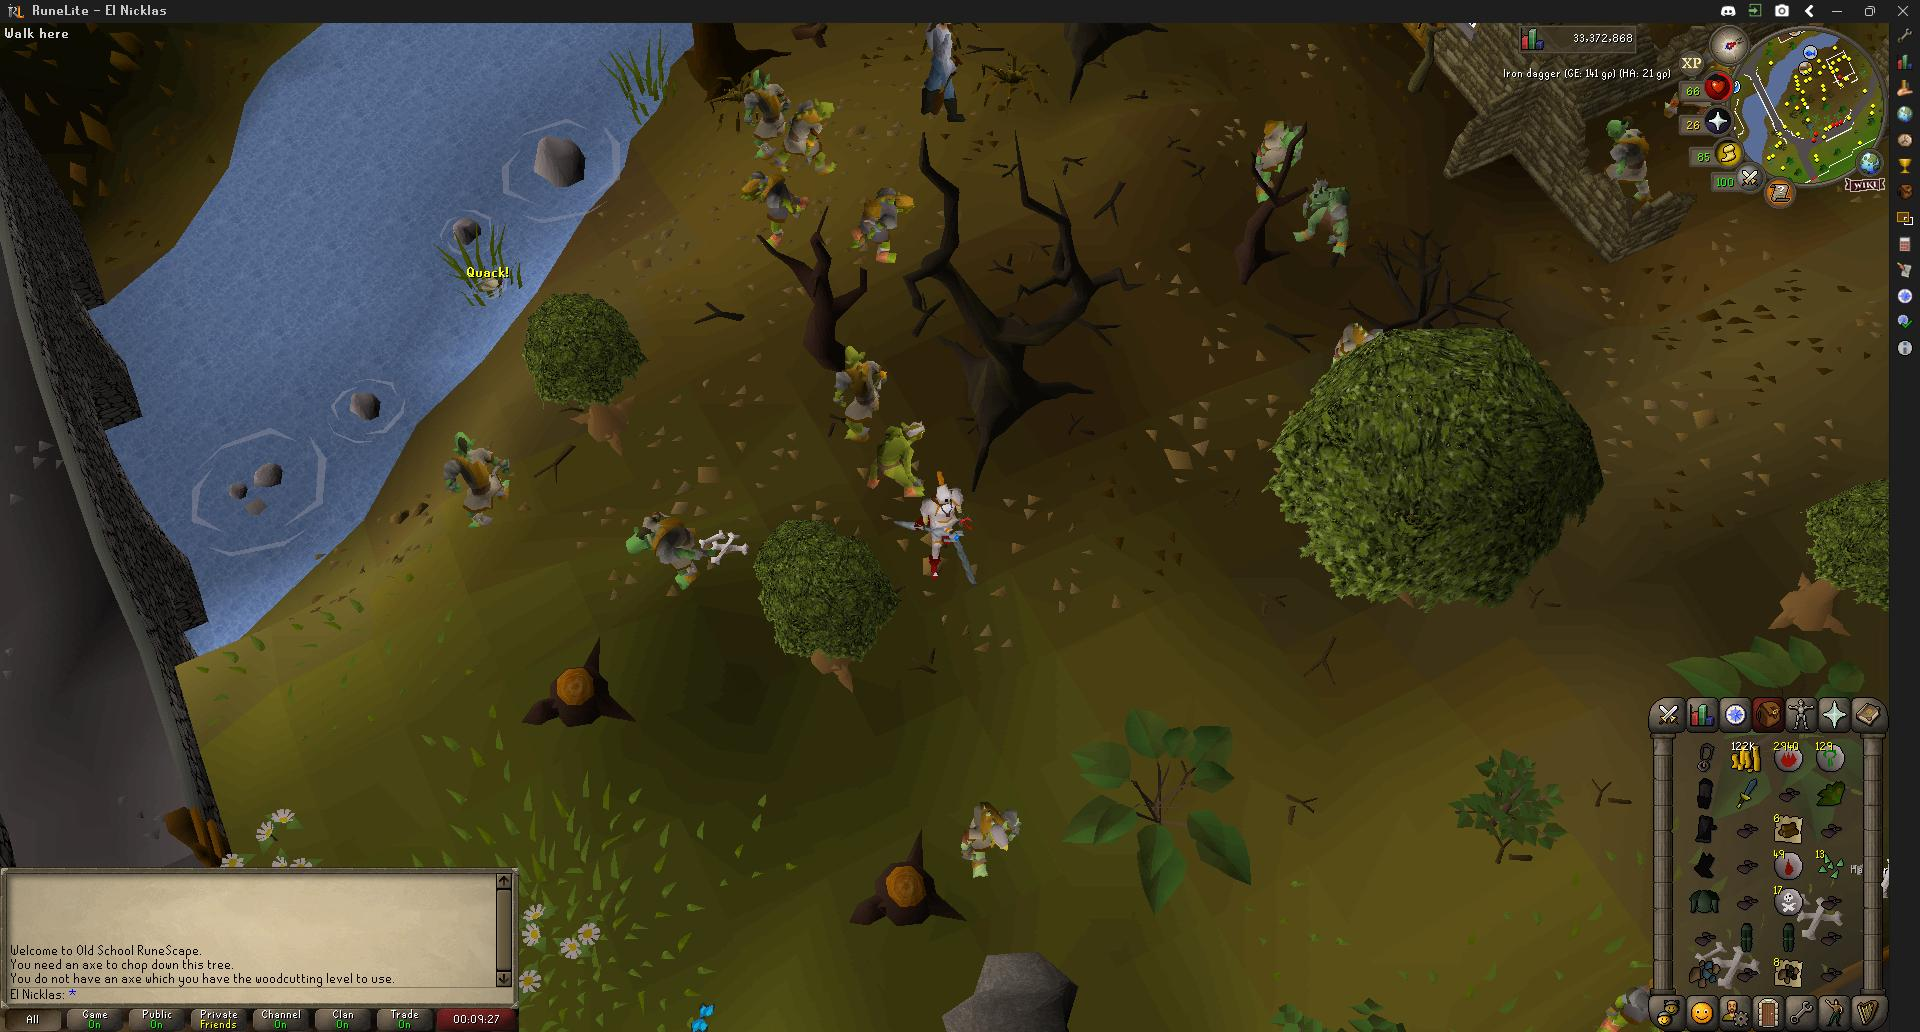Player: (910, 478, 992, 582)
goblin: (443, 431, 513, 525), (656, 514, 736, 591), (830, 344, 889, 436), (868, 417, 929, 500), (743, 167, 808, 244), (854, 185, 918, 262), (959, 800, 1019, 873), (1602, 119, 1651, 204), (1300, 179, 1351, 259), (1254, 118, 1302, 202), (743, 72, 791, 155), (786, 96, 836, 169), (1331, 321, 1373, 363)
